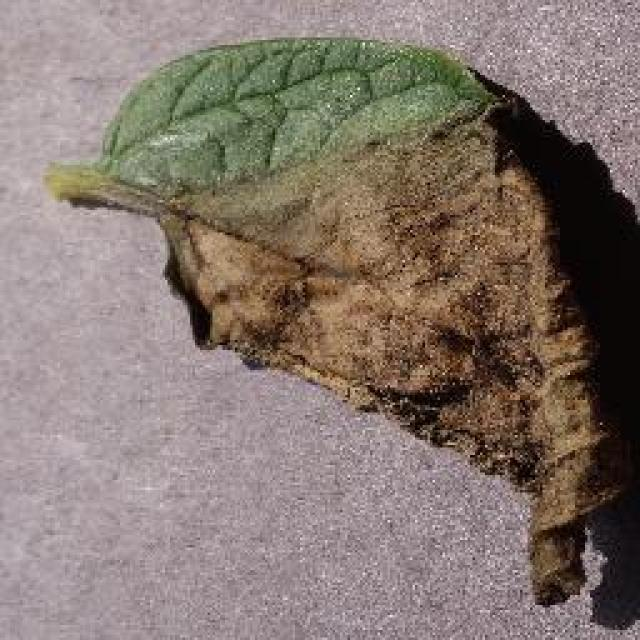Potato___Late_blight: (42, 37, 633, 611)
